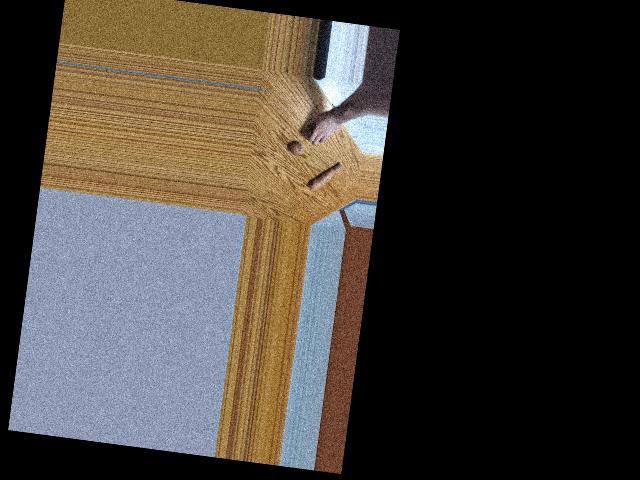onion: (306, 121, 323, 139)
